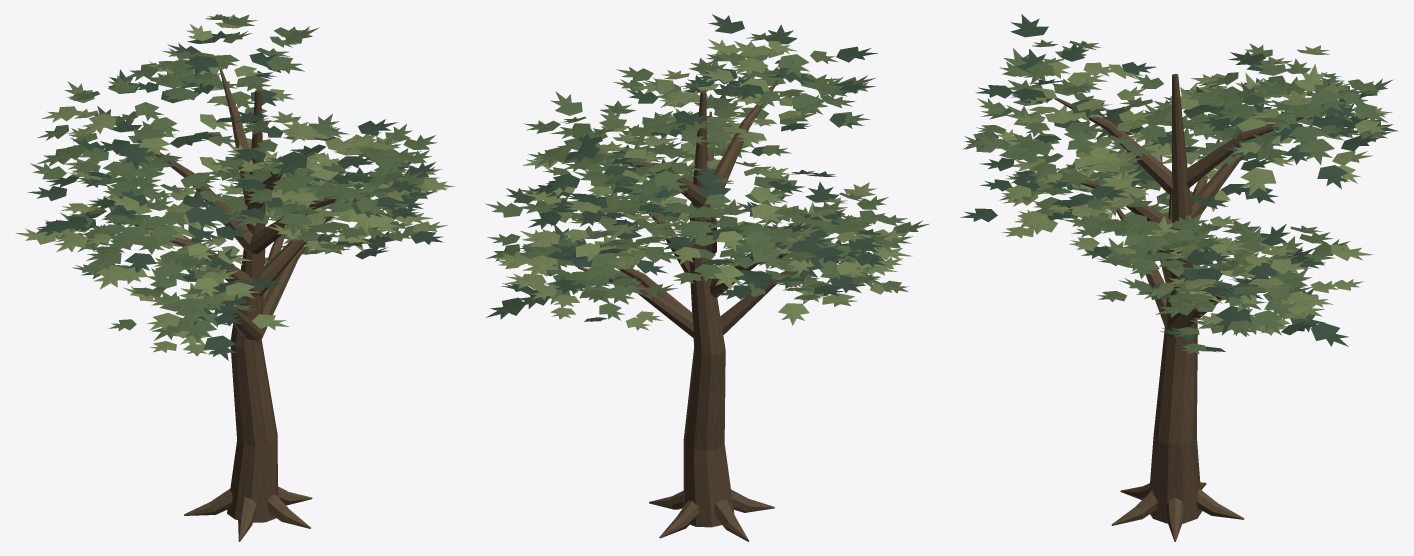
The model's file is NA_Broadleaf_2.glb.
3 views of the same model, side by side, from view 1: azimuth 30°, elevation 25°; view 2: azimuth 150°, elevation 25°; view 3: azimuth 270°, elevation 25° (orthographic). The views are drawn at different scales.
Parts seen in each view (by area): view 1: NA_Broadleaf_2; view 2: NA_Broadleaf_2; view 3: NA_Broadleaf_2.
Part boxes in pixels (<box>): NA_Broadleaf_2: <box>15,14,454,541</box>; NA_Broadleaf_2: <box>485,14,928,541</box>; NA_Broadleaf_2: <box>960,14,1398,541</box>.
Bounding box in the file's own units: 2.71 × 2.92 × 2.58.
4 materials, 1 textured.
